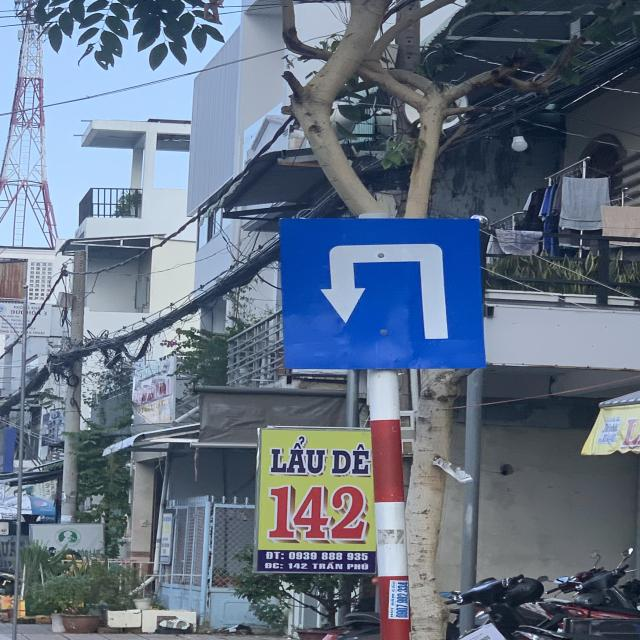Den_Giao_Thong: (278, 218, 486, 371)
